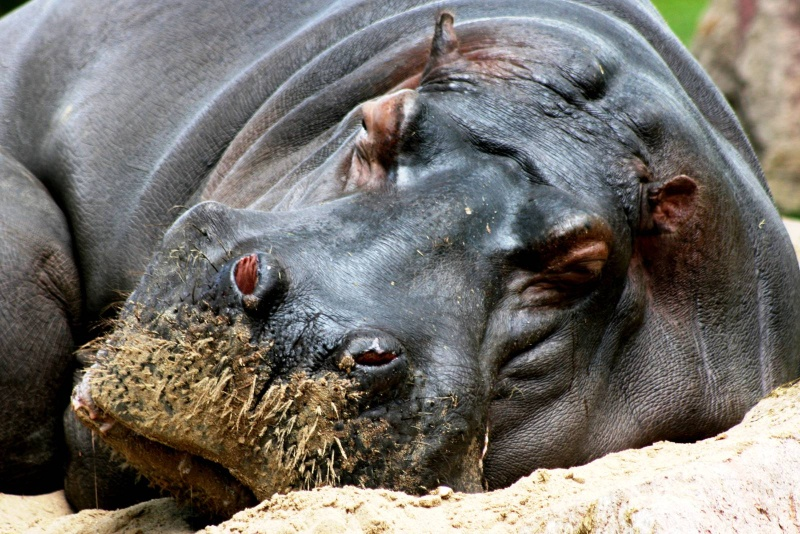hipopotamo: (11, 0, 795, 510)
